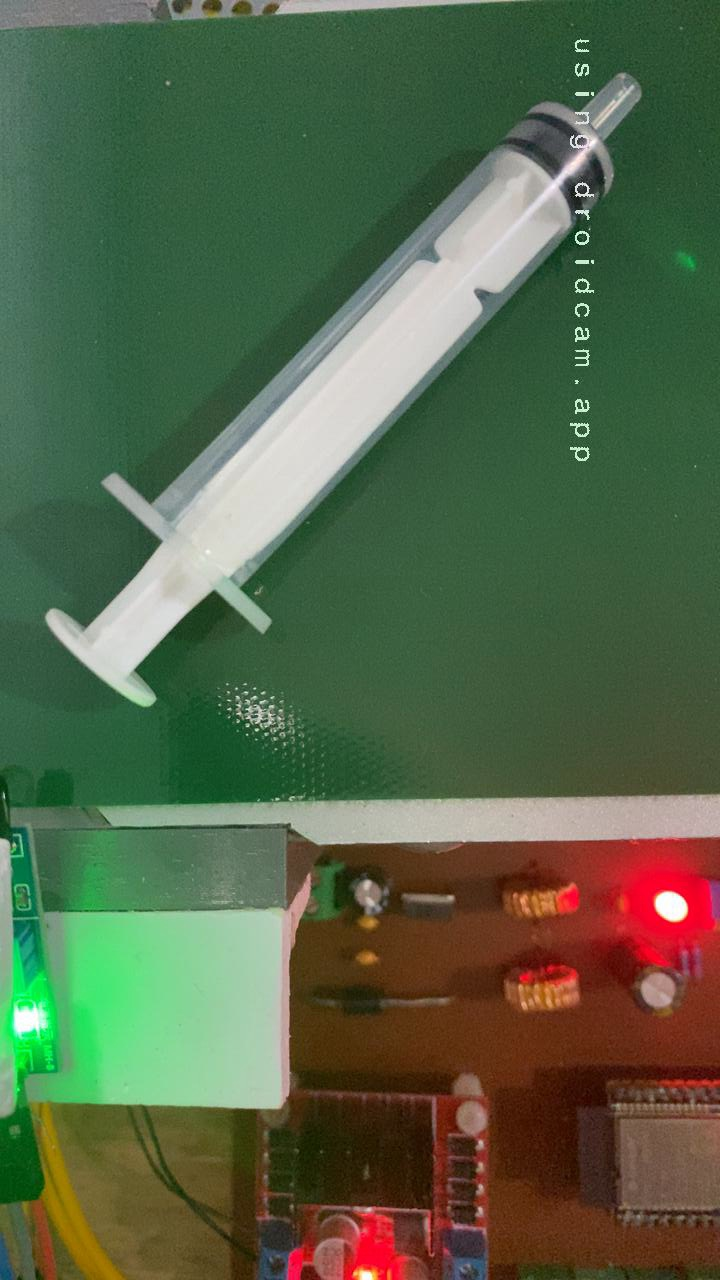syringe: (39, 66, 649, 701)
